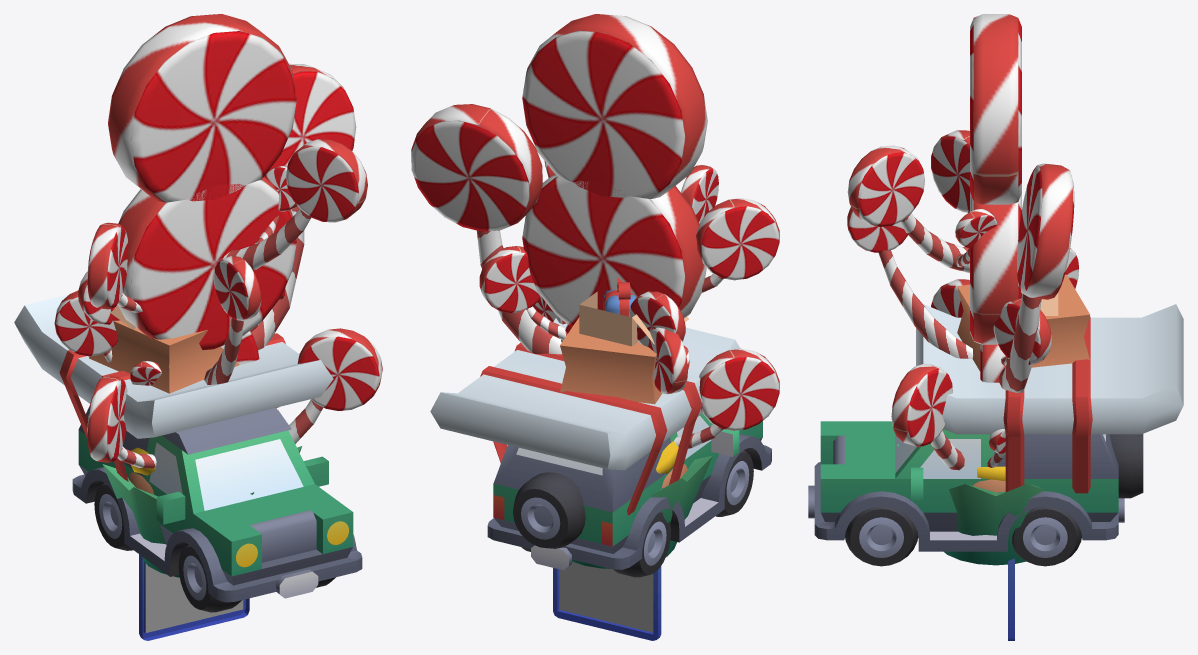
The model's file is SM_FINISHED_ASSETS.fbx.
3 renders of one model, left to right at view 1: azimuth 30°, elevation 25°; view 2: azimuth 150°, elevation 25°; view 3: azimuth 270°, elevation 25°, orthographic. The views are drawn at different scales.
Parts seen in each view (by area): view 1: CANE_TREE_03, CAR, CANE_TREE_02, CAR_LOAD, CANE_TREE_01, IPAD, CUPCAKE_03; view 2: CANE_TREE_03, CANE_TREE_02, CAR_LOAD, CAR, IPAD, CANE_TREE_01, CUPCAKE_03; view 3: CAR, CAR_LOAD, CANE_TREE_03, CANE_TREE_02, CANE_TREE_01, CUPCAKE_03, IPAD.
Part boxes in pixels (x1,y1,x2,y2): CANE_TREE_03: [54, 14, 367, 385]; CAR: [72, 405, 362, 612]; CANE_TREE_02: [78, 63, 356, 384]; CAR_LOAD: [14, 294, 333, 481]; CANE_TREE_01: [87, 328, 382, 468]; IPAD: [139, 554, 249, 640]; CUPCAKE_03: [102, 446, 301, 577]; CANE_TREE_03: [479, 14, 779, 394]; CANE_TREE_02: [411, 104, 718, 354]; CAR_LOAD: [430, 277, 740, 515]; CAR: [487, 413, 771, 577]; IPAD: [553, 561, 661, 640]; CANE_TREE_01: [533, 297, 779, 448]; CUPCAKE_03: [572, 441, 712, 568]; CAR: [808, 421, 1143, 566]; CAR_LOAD: [916, 274, 1183, 493]; CANE_TREE_03: [847, 14, 1078, 366]; CANE_TREE_02: [847, 163, 1074, 392]; CANE_TREE_01: [891, 279, 1005, 470]; CUPCAKE_03: [897, 444, 1042, 565]; IPAD: [1008, 558, 1014, 640].
Bounding box in the file's own units: 286 × 530 × 302.
3 materials, 2 textured.
